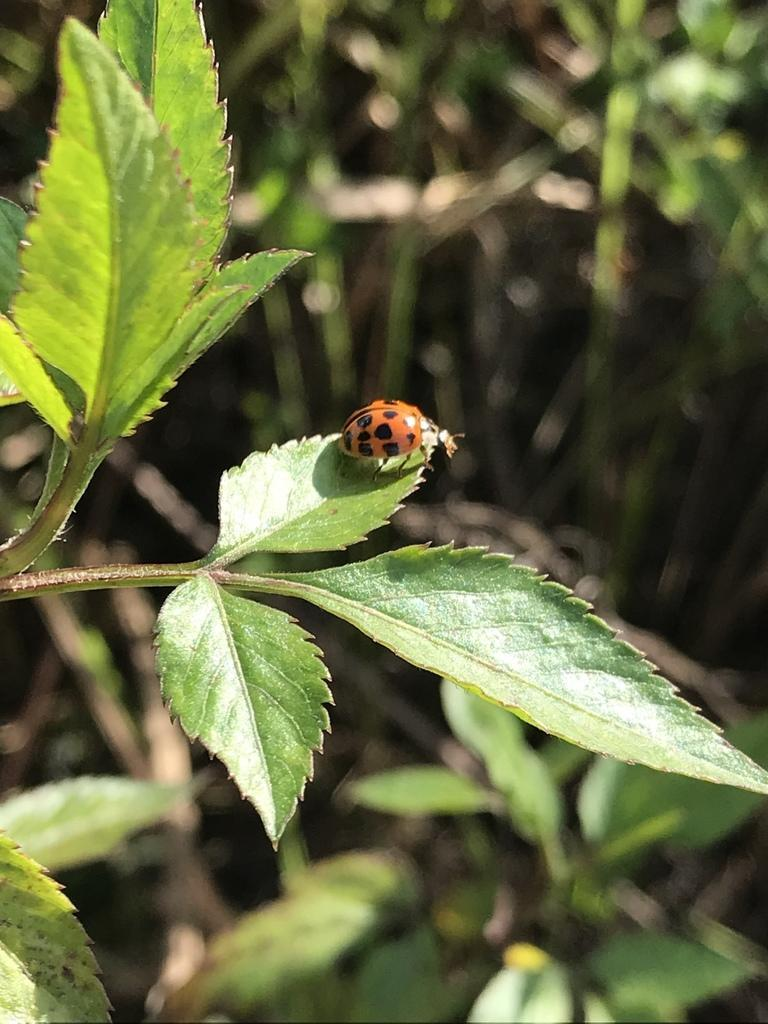ladybug: (340, 397, 470, 484)
